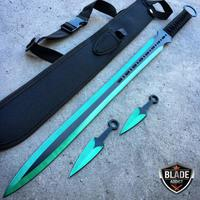knife: (1, 4, 199, 199)
